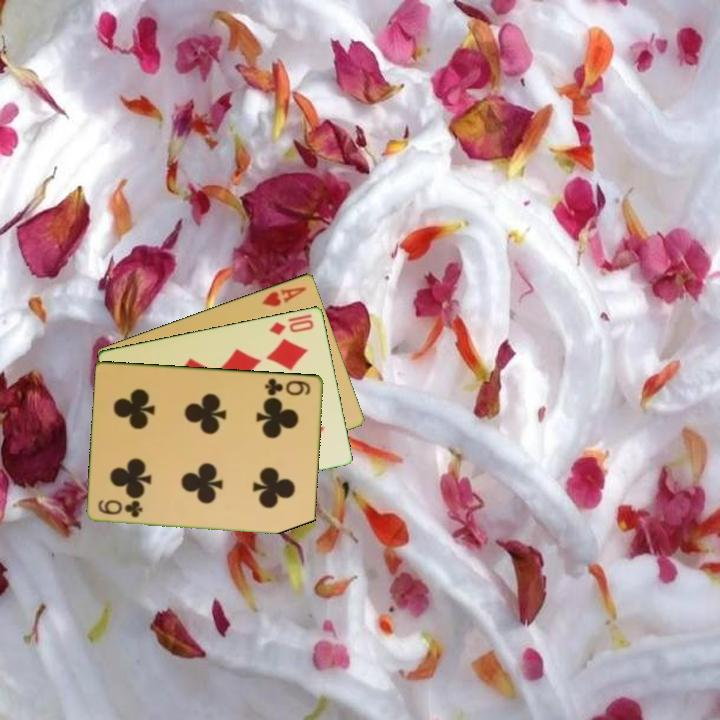10d: (266, 315, 317, 338)
6c: (262, 374, 313, 398), (95, 496, 146, 520)
Ah: (258, 283, 309, 309)
